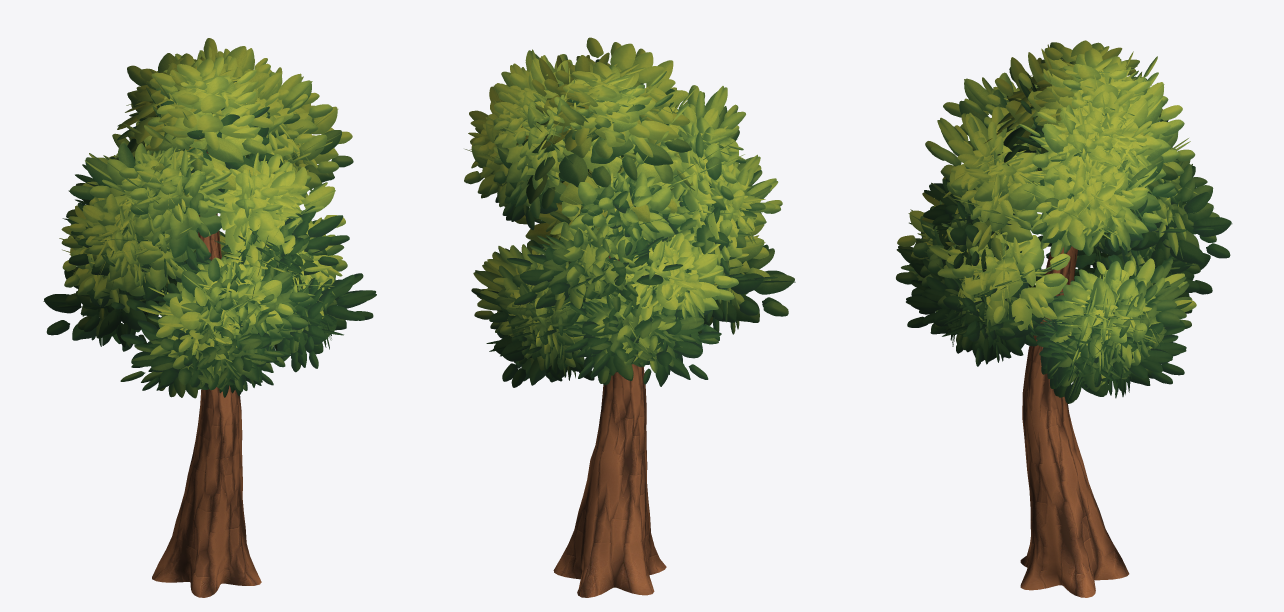
Rendered from tree_round_a.glb.
The picture shows the model from 3 angles, left to right: view 1: azimuth 30°, elevation 25°; view 2: azimuth 150°, elevation 25°; view 3: azimuth 270°, elevation 25°; orthographic projection. The views are drawn at different scales.
Visible parts, largest first — view 1: Canopy, tree_round_a; view 2: Canopy, tree_round_a; view 3: Canopy, tree_round_a.
Part boxes in pixels (x1,y1,x2,y2): Canopy: (43,38,376,398); tree_round_a: (152,152,261,597); Canopy: (464,37,795,387); tree_round_a: (553,213,666,597); Canopy: (896,40,1232,403); tree_round_a: (1020,246,1129,597).
Bounding box in the file's own units: 1.46 × 2.3 × 1.57.
2 materials, 2 textured.
